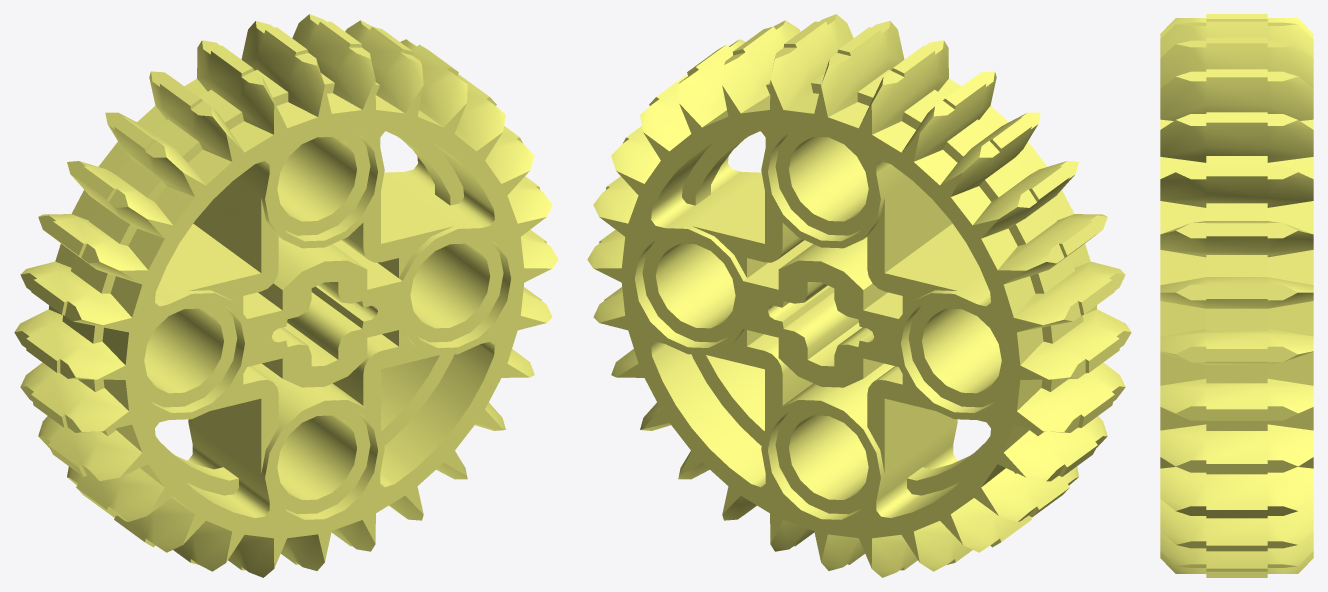
The picture shows the model from 3 angles, left to right: view 1: azimuth 30°, elevation 25°; view 2: azimuth 150°, elevation 25°; view 3: azimuth 270°, elevation 25°; orthographic projection.
Parts seen in each view (by area): view 1: 46372.dat; view 2: 46372.dat; view 3: 46372.dat.
Part boxes in pixels (box(x1,y1,x2,y2)): 46372.dat: box(14, 14, 558, 577); 46372.dat: box(587, 14, 1131, 577); 46372.dat: box(1160, 14, 1313, 577).
Size of the model in its own units: 0.0294 by 0.0294 by 0.008.
